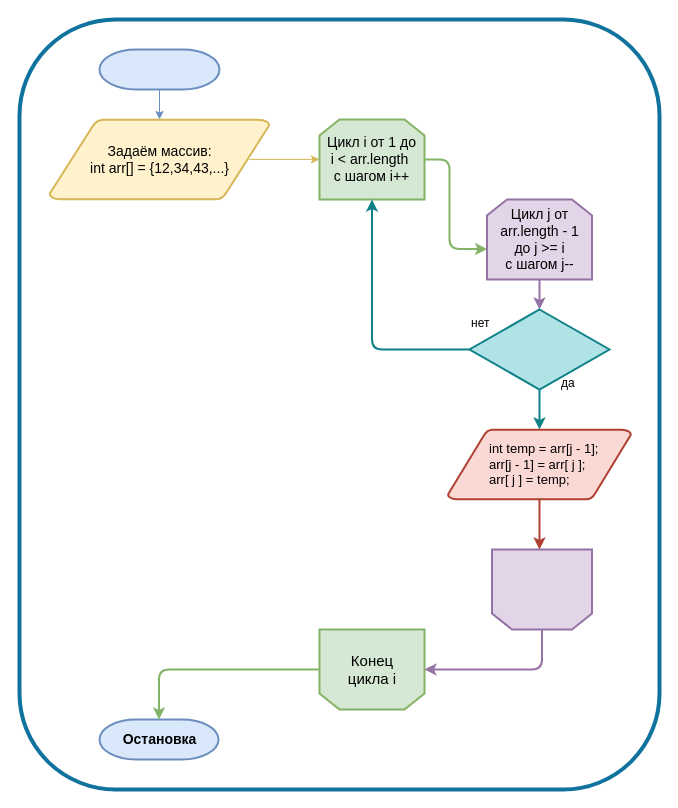
This 678x808 diagram has some shape labels left out. The centre of each missing label's shape, as x and y in pixels:
arr[b - 1] > arr[b] ?: point 539,349
Запуск: point 159,69
Конец цикла j: point 541,589
